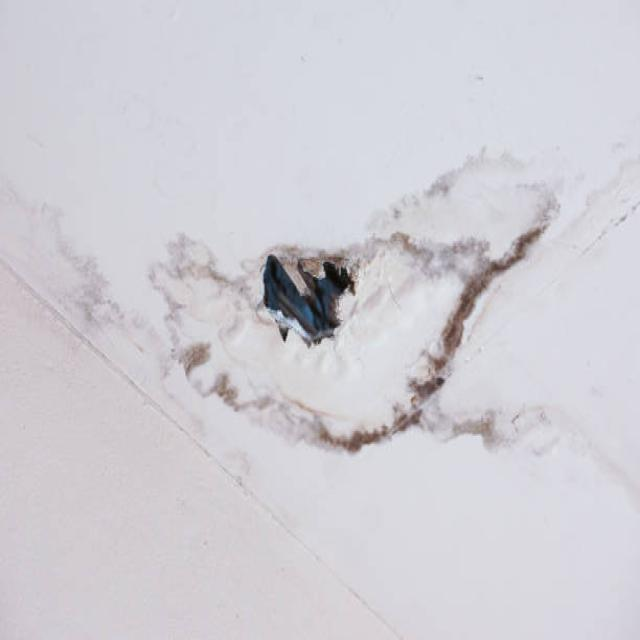Crack: (260, 245, 354, 352)
